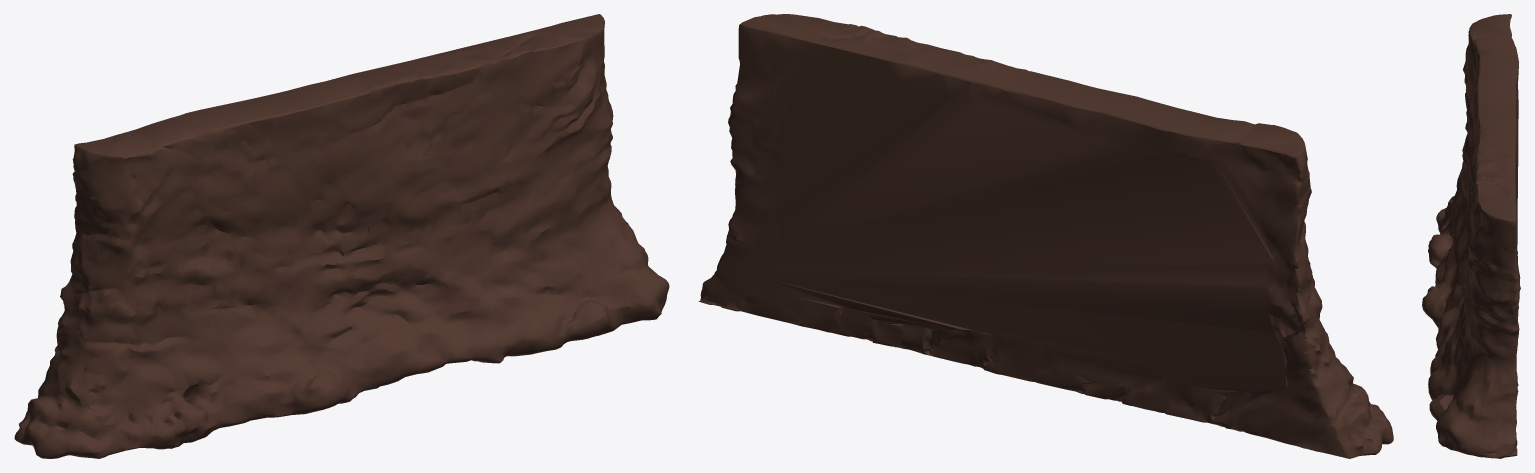
The model's file is Wall_30m.fbx.
The picture shows the model from 3 angles, left to right: view 1: azimuth 30°, elevation 25°; view 2: azimuth 150°, elevation 25°; view 3: azimuth 270°, elevation 25°; orthographic projection. The views are drawn at different scales.
Visible parts, largest first — view 1: Wall_30m; view 2: Wall_30m; view 3: Wall_30m.
Boxes of the visible parts, x1,y1,x2,y2 form: Wall_30m: (14,14,669,458); Wall_30m: (698,14,1393,458); Wall_30m: (1422,14,1520,458).
Size of what is drawn, in the model's own units: 3681 by 1575 by 611.
Materials: 1 (1 with a texture image).
